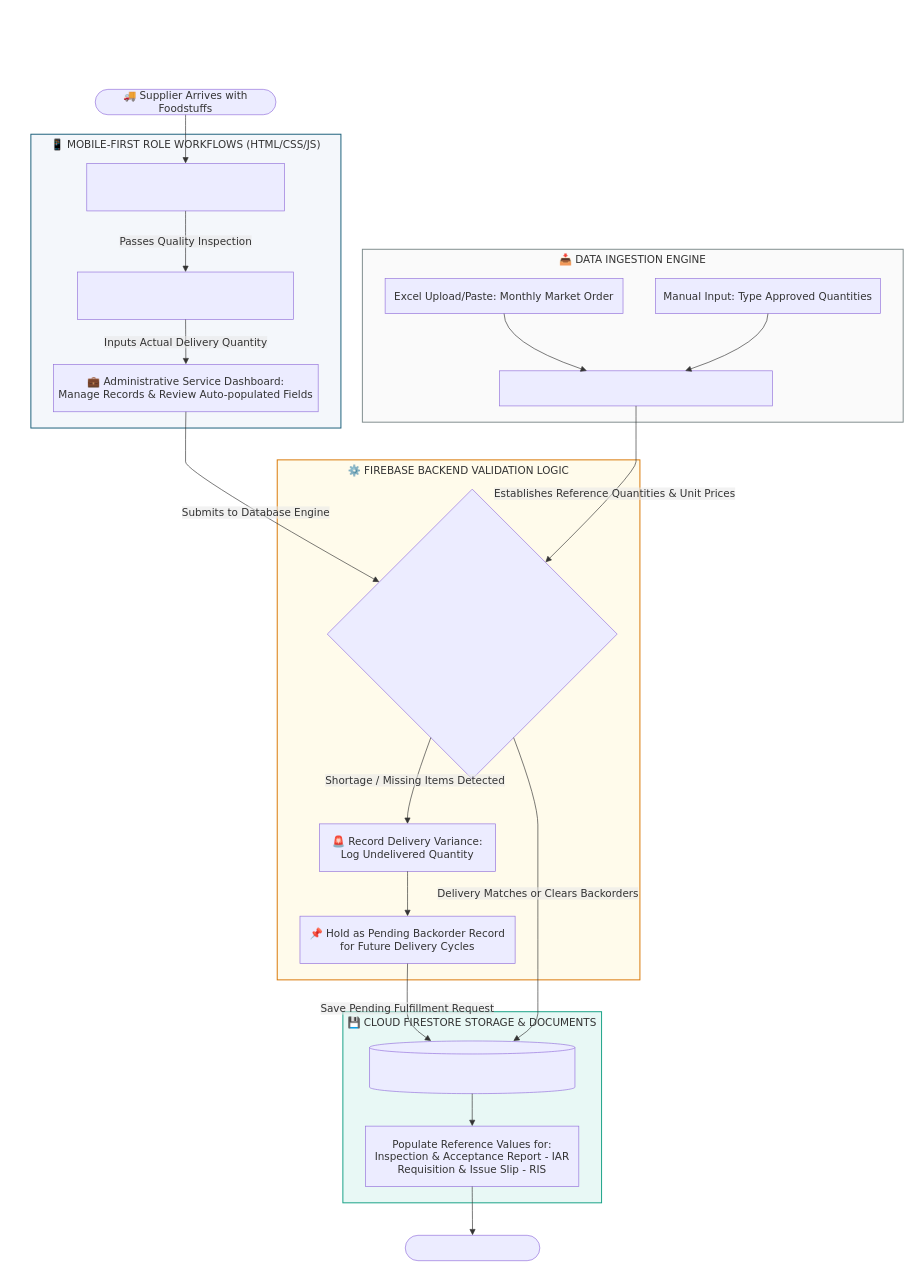
Some shapes in this 915 by 1272 pixel diagram are drawn without their labels. Each missing label, with the centre of its shape:
"Cloud Firestore: Active Logs, Backorders & Activity Buffers" goes at (472,1067).
"Does actual delivery count match approved reference quantites?" goes at (472,633).
"System Parser: Build Baseline Data Matrix Lots 1-5" goes at (636,388).
"🍳 Dietary Service Portal: Inspects Food Quality & Freshness" goes at (185,187).
"🏁 Processing Completed" goes at (472,1248).
"👮 Officer of the Day OD/EOD Portal: Counts, Weighs & Logs Quantities" goes at (185,295).
